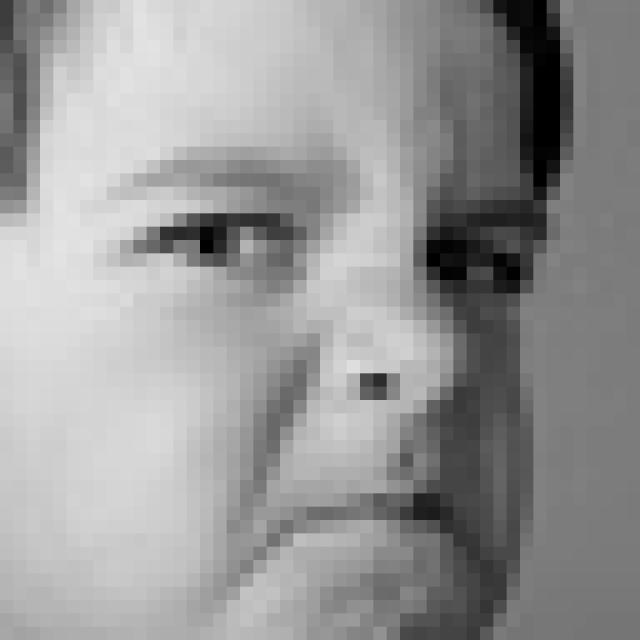angry: (103, 150, 548, 640)
